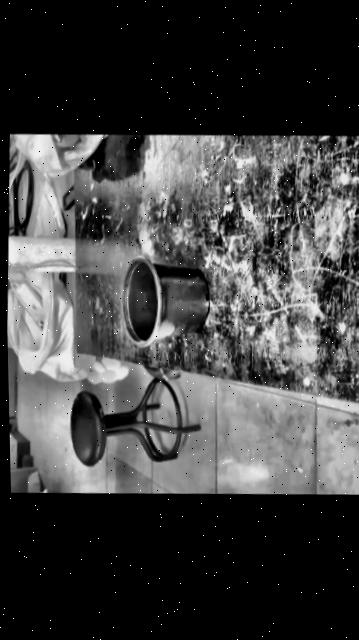pot: (118, 255, 210, 347)
